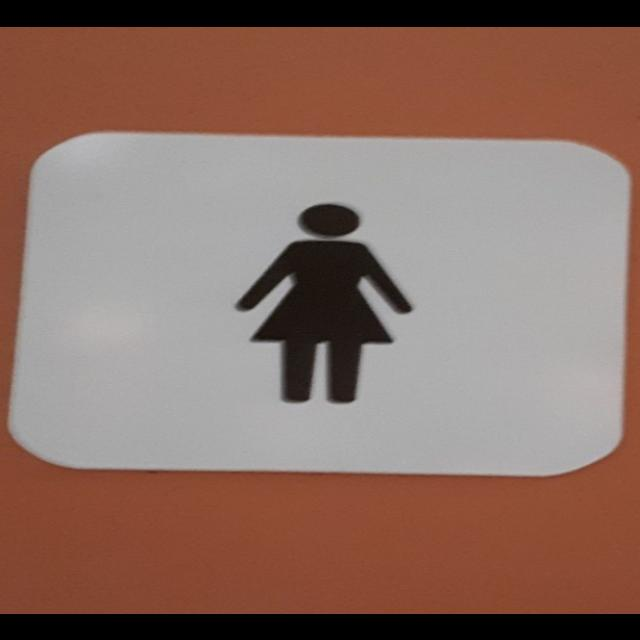wc nu: (9, 132, 631, 475)
